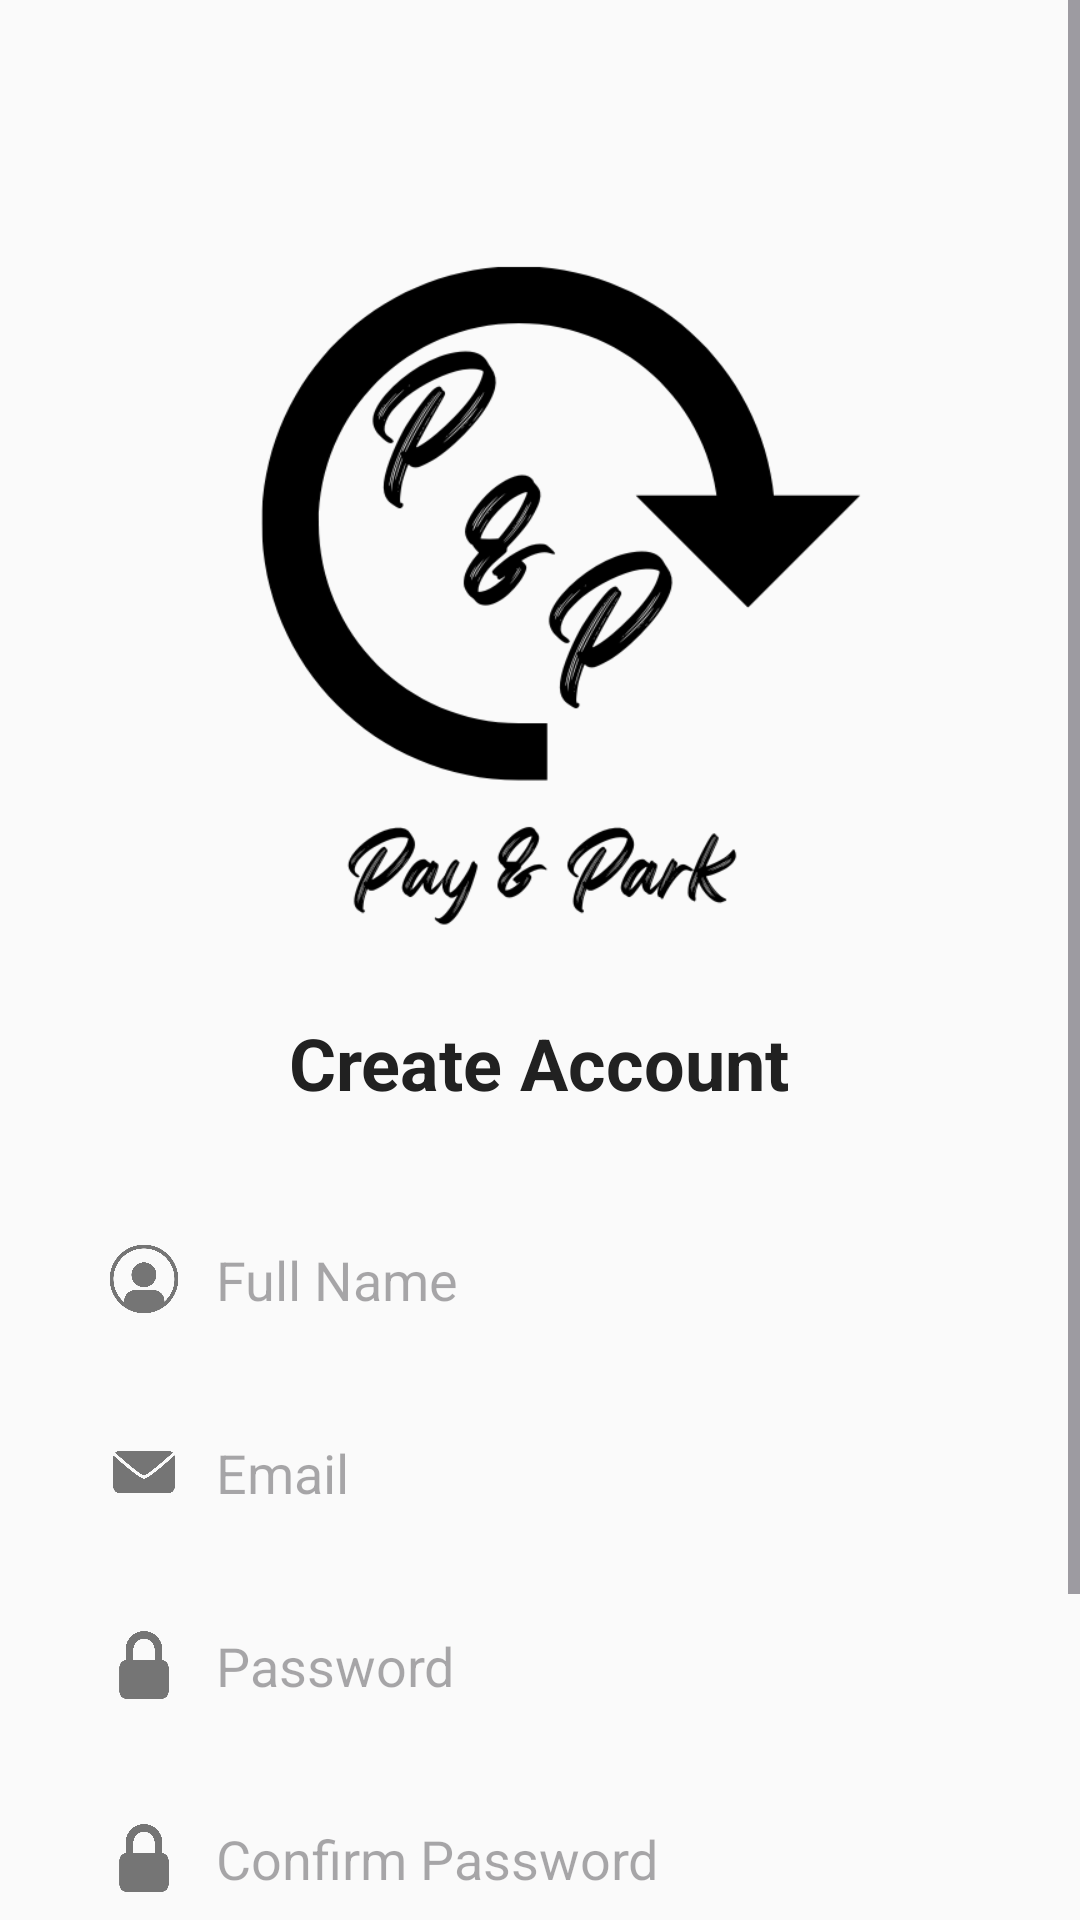

Icon bounding boxes for this 1080x1920 phone screenshot, format detection(x1, y1, x2, y2):
lock: detection(119, 1631, 169, 1699), detection(119, 1824, 169, 1892)
person: detection(110, 1245, 178, 1313)
